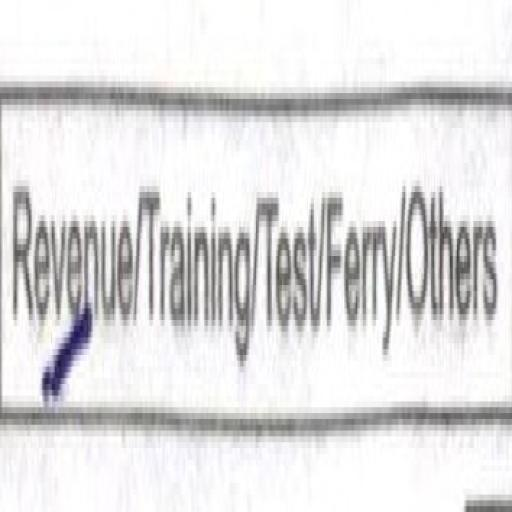check: (6, 33, 139, 468)
